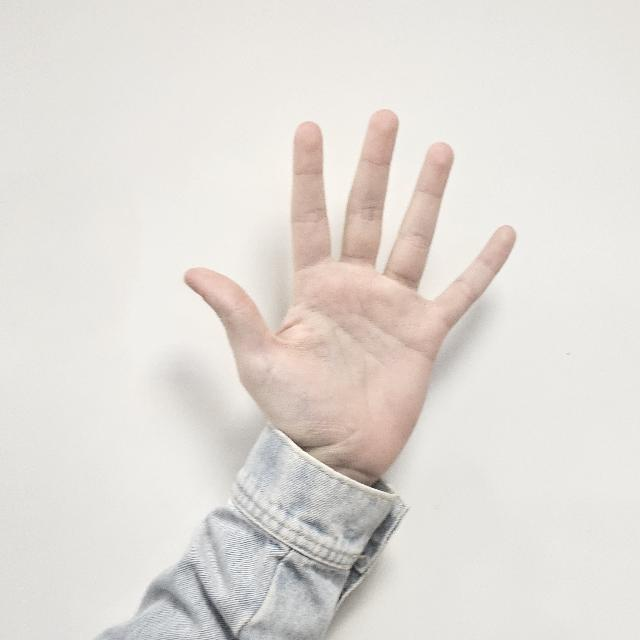X: (182, 108, 516, 490)
